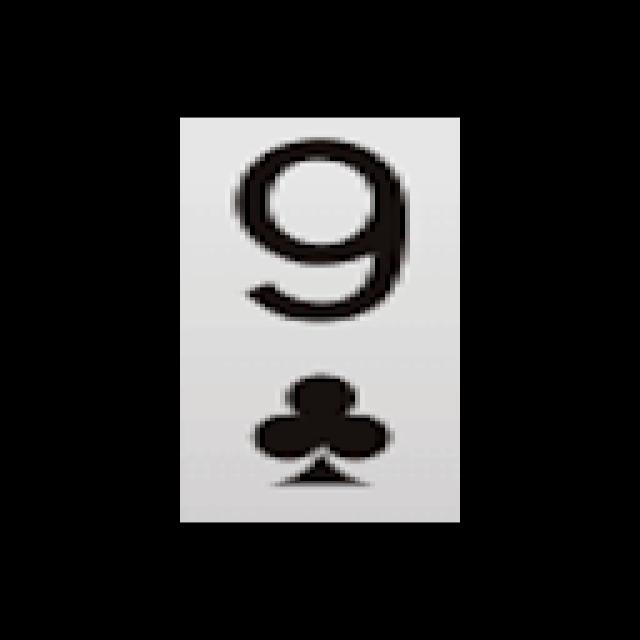9C: (200, 129, 431, 503)
